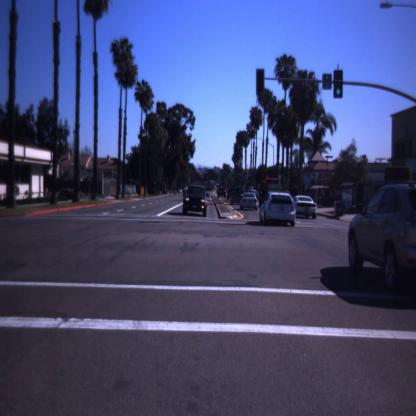trafficlight: (333, 67, 344, 102)
